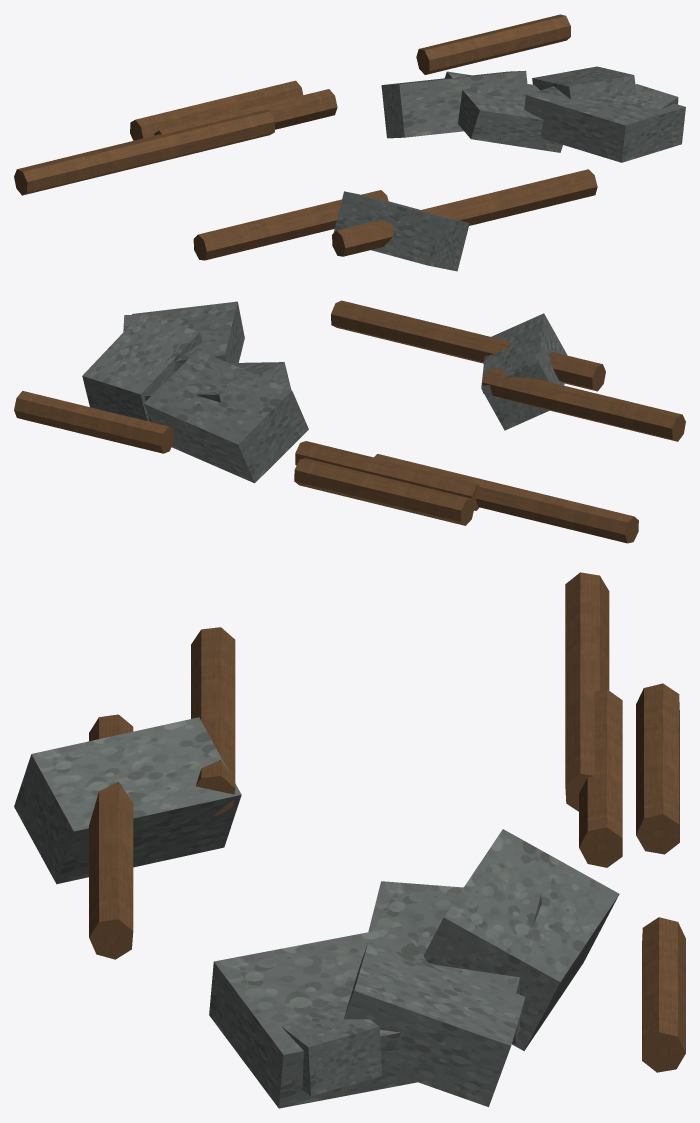
The model's file is en-015_cave_floor_debris_set__stones.obj.
The picture shows the model from 3 angles, top to bottom: view 1: azimuth 30°, elevation 25°; view 2: azimuth 150°, elevation 25°; view 3: azimuth 270°, elevation 25°; orthographic projection. The views are drawn at different scales.
Visible parts, largest first — view 1: en-015_cave_floor_debris_set__stones; view 2: en-015_cave_floor_debris_set__stones; view 3: en-015_cave_floor_debris_set__stones.
Part boxes in pixels (x1=…): en-015_cave_floor_debris_set__stones: x1=14, y1=14, x2=685, y2=271; en-015_cave_floor_debris_set__stones: x1=14, y1=300, x2=685, y2=543; en-015_cave_floor_debris_set__stones: x1=14, y1=572, x2=685, y2=1108.
Bounding box in the file's own units: 1.68 × 0.2089 × 1.02.
2 materials, 2 textured.
